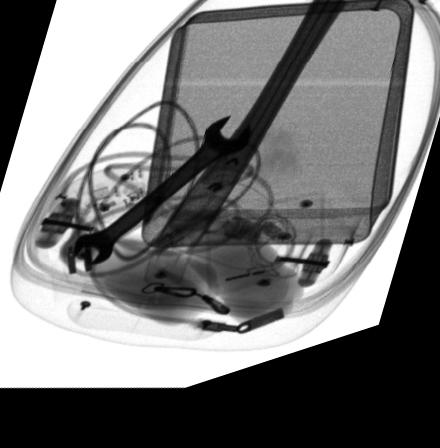Wrench: (73, 128, 251, 270)
